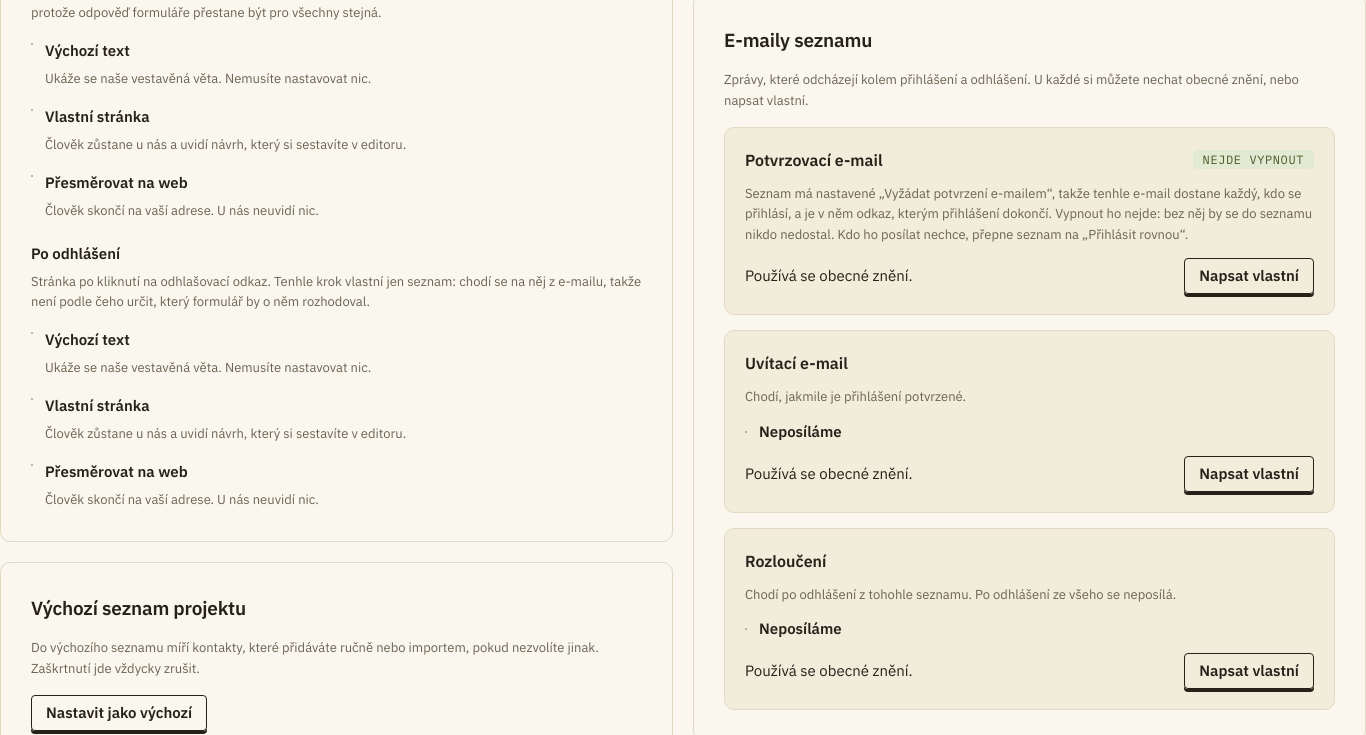
e-maily seznamu › větu ze serveru ukáže doslova, ne obecné „nepodařilo se"
(page scrolled)
Click the button with test id "list-email-create-welcome". click: (1249, 474)
box: top-left (1184, 456), bottom-right (1314, 492)
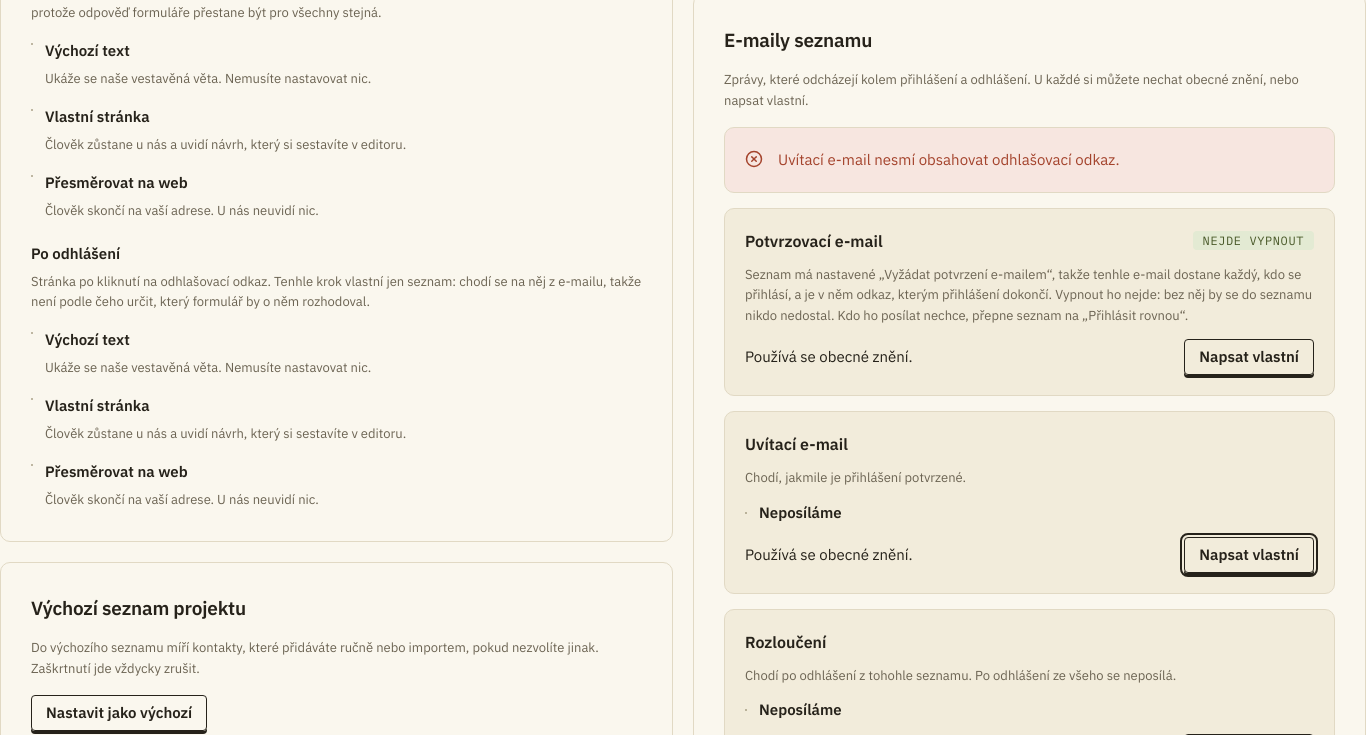
expect the message reads "Uvítací e-mail nesmí obsahovat odhlašovací odkaz.": met, box top-left (778, 150), bottom-right (1120, 168)
